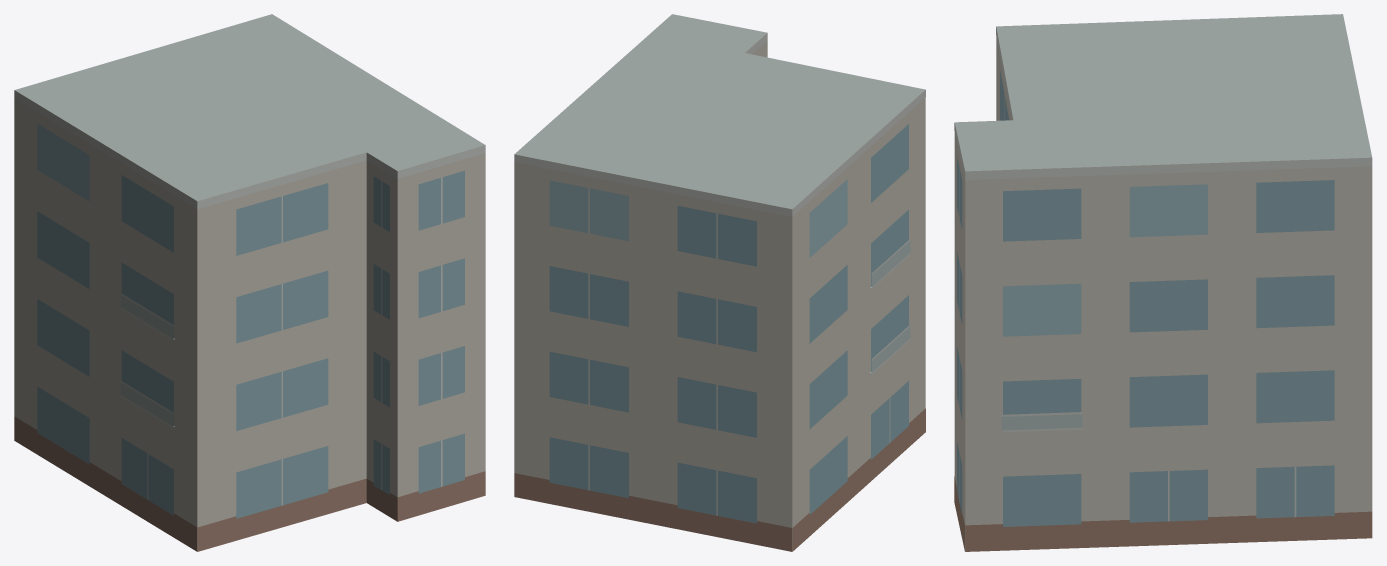
File: survey-upis-32654162.glb
3 views of the same model, side by side, from view 1: azimuth 30°, elevation 25°; view 2: azimuth 150°, elevation 25°; view 3: azimuth 270°, elevation 25° (orthographic). The views are drawn at different scales.
Parts seen in each view (by area): view 1: survey-upis-32654162.tmp; view 2: survey-upis-32654162.tmp; view 3: survey-upis-32654162.tmp.
Part boxes in pixels (x1=…): survey-upis-32654162.tmp: x1=14, y1=14, x2=485, y2=551; survey-upis-32654162.tmp: x1=514, y1=14, x2=925, y2=551; survey-upis-32654162.tmp: x1=954, y1=14, x2=1372, y2=551.
Size of the model in its own units: 9.59 by 10.8 by 10.76.
